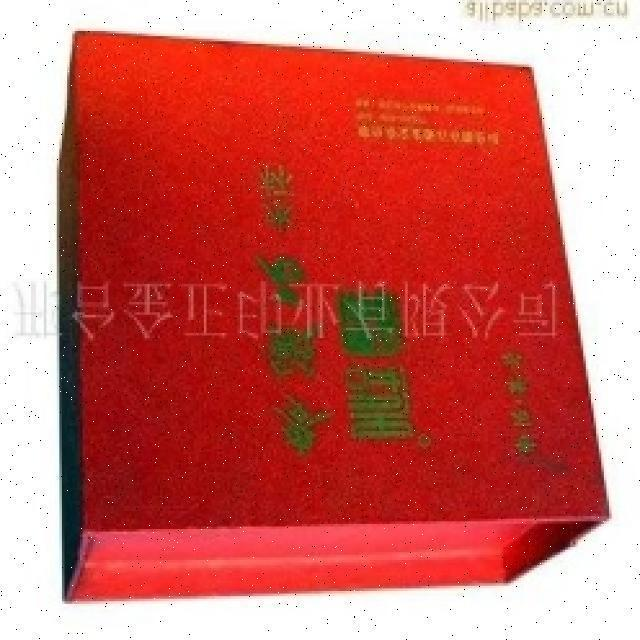box: (22, 14, 598, 621)
